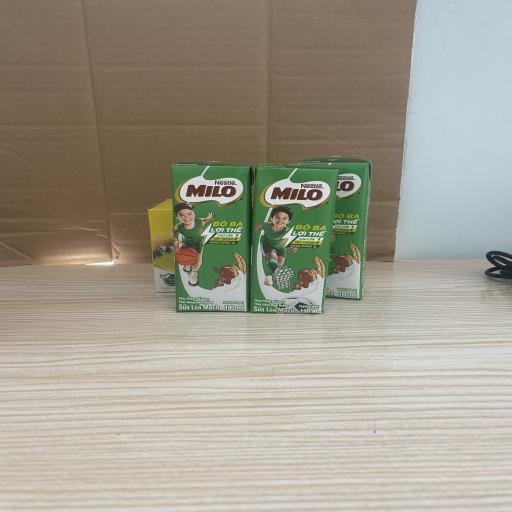custas: (148, 198, 176, 292)
milo: (250, 164, 338, 314), (170, 161, 252, 311), (298, 157, 371, 299)
